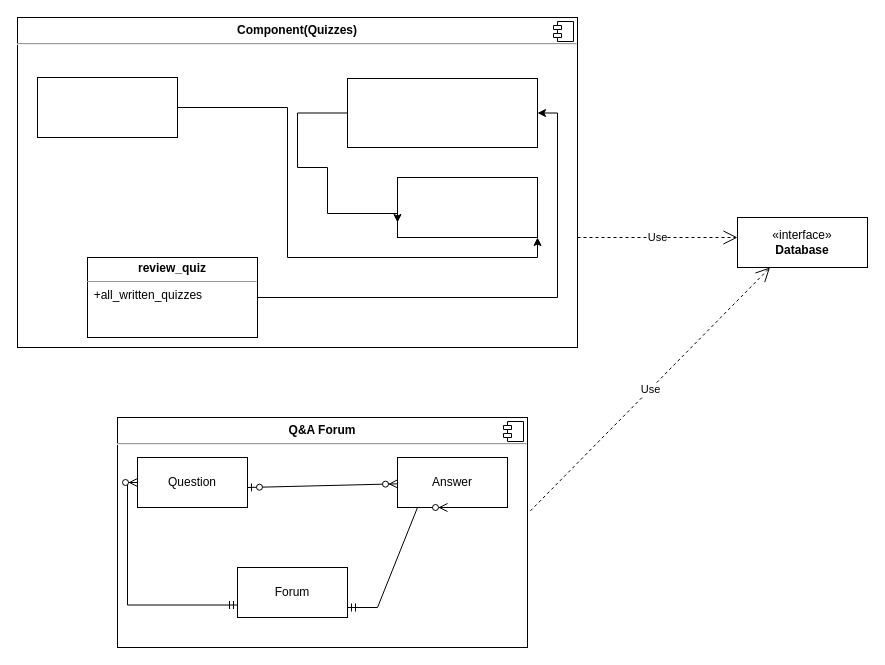
The diagram is 885 pixels wide and 665 high, and some of its shapes have lost their labels. Each missing label, with the centre of its shape:
"create_quiz + all_questions + all_answers" goes at point 107,107.
"user_quiz_view + all_quizzes" goes at point 467,207.
"write_quizzes + view - questions + answers" goes at point 442,113.
